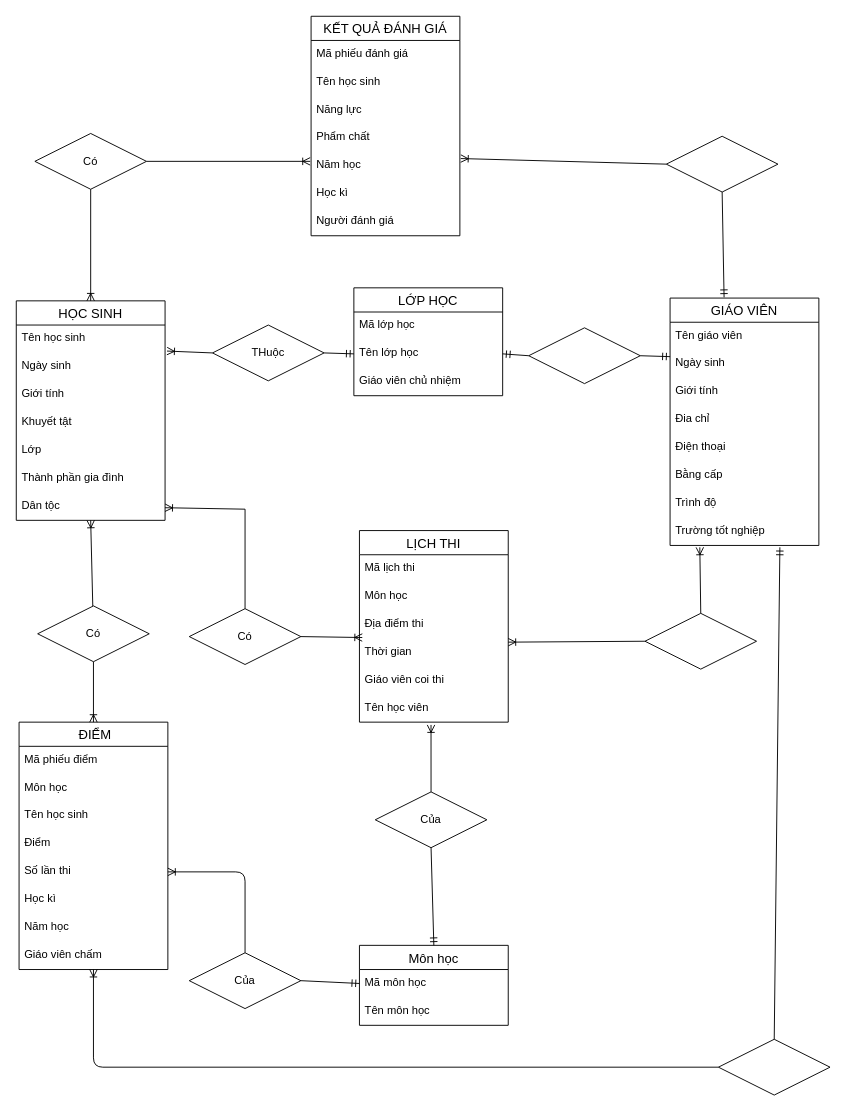
Image size: 846x1111. Some labels were removed from this diagram. The centre of each missing label's shape, as x and y in pixels:
Chấm thi: pixel 773 1066
Chủ nhiệm: pixel 584 355
Coi thi: pixel 700 640
Đánh giá: pixel 721 163
